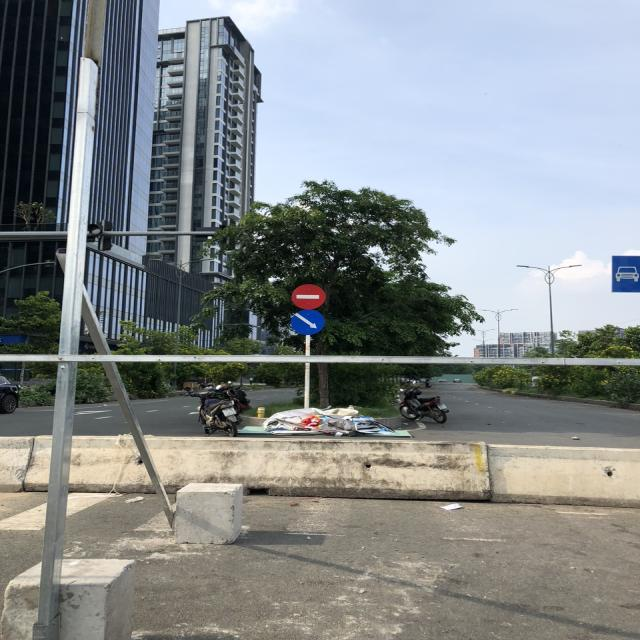Bien bao cam di nguoc chieu: (288, 280, 335, 310)
